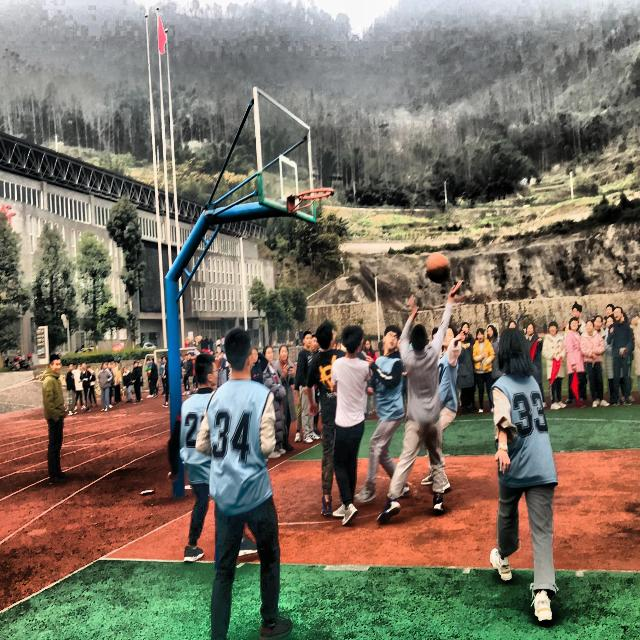board: (426, 252, 450, 282)
